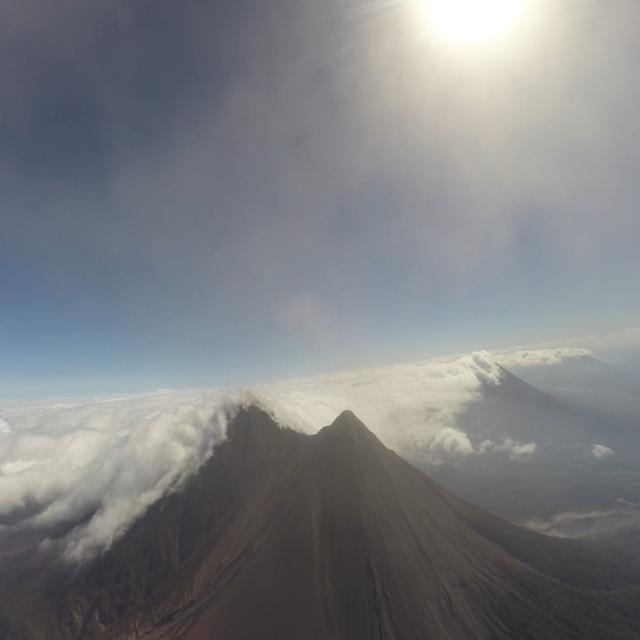Summit: (316, 404, 380, 444)
